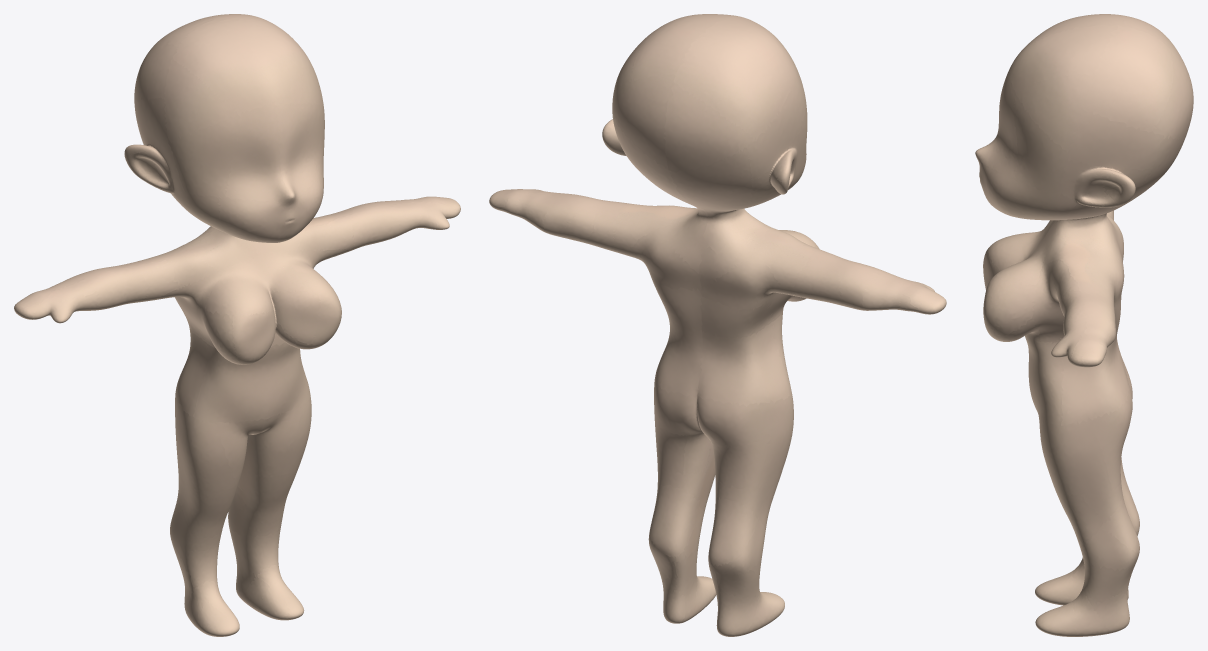
The model's file is char_yeoja_base_v18.glb.
The picture shows the model from 3 angles, left to right: view 1: azimuth 30°, elevation 25°; view 2: azimuth 150°, elevation 25°; view 3: azimuth 270°, elevation 25°; orthographic projection. The views are drawn at different scales.
Bounding box in the file's own units: 1.5 × 1.9 × 0.6343.
1 material, 1 textured.
